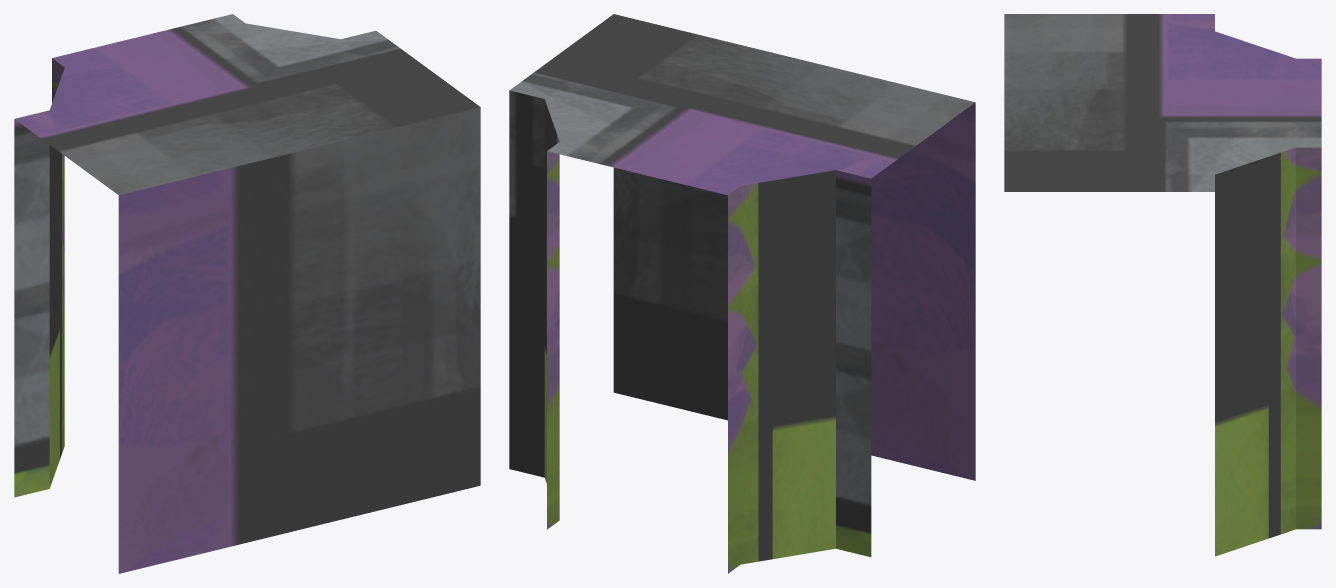
Rendered from wall_t_shape.fbx.
3 renders of one model, left to right at view 1: azimuth 30°, elevation 25°; view 2: azimuth 150°, elevation 25°; view 3: azimuth 270°, elevation 25°, orthographic.
Visible parts, largest first — view 1: wall_t_shape; view 2: wall_t_shape; view 3: wall_t_shape.
Part boxes in pixels (x1,y1,x2,y2): wall_t_shape: (14, 14, 480, 573); wall_t_shape: (509, 14, 975, 573); wall_t_shape: (1004, 14, 1321, 556).
Bounding box in the file's own units: 0.02 × 0.02 × 0.0151.
